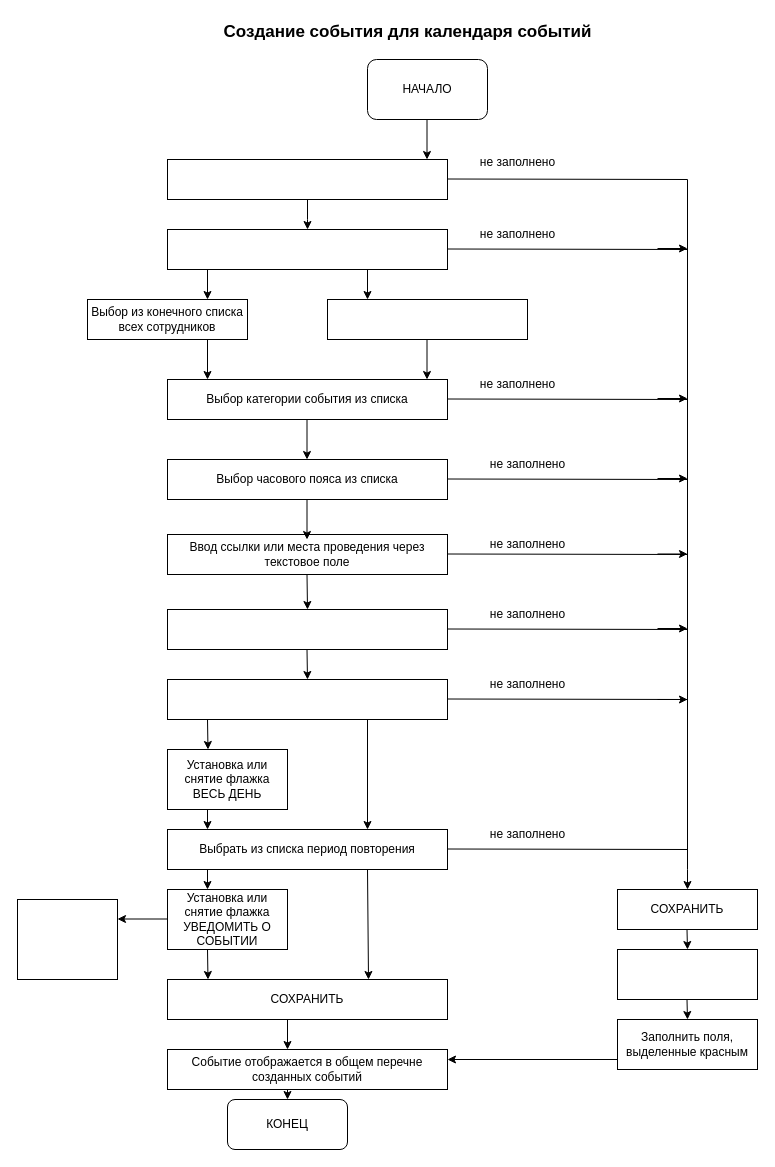
The diagram is 775 pixels wide and 1167 high, and some of its shapes have lost their labels. The shapes that lost their labels are listed below. From the top down, each one's centre as x and y in pixels, then its label:
At (x=307, y=179): "Ввод наименования события через текстовое поле".
At (x=307, y=249): "Выбор из списка участников".
At (x=427, y=319): "Выбор из конечного списка одного или нескольких подразделений".
At (x=307, y=629): "Ввод описания события через текстовое поле".
At (x=307, y=699): "Выбор даты и времени события".
At (x=67, y=939): "Отправка уведомления всем сотрудникам компании".
At (x=687, y=974): "ОШИБКА не заполнены обязательные поля".
